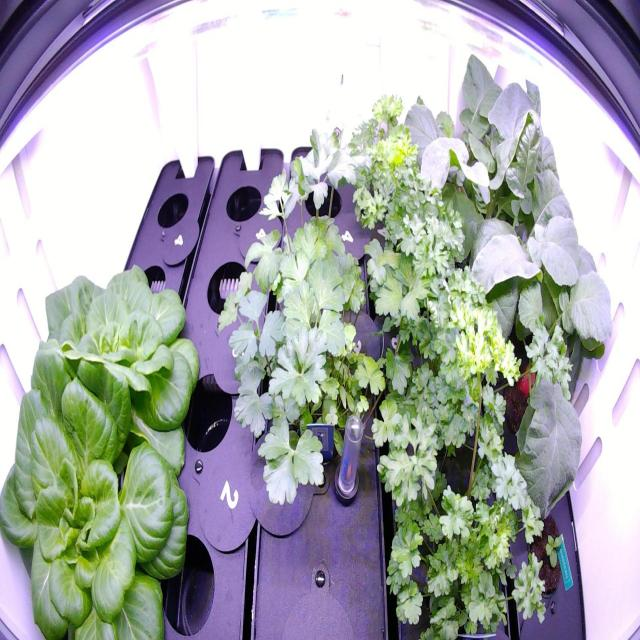empty_pod: (138, 511, 220, 636), (168, 350, 238, 462), (200, 250, 256, 326), (122, 254, 175, 319), (218, 174, 266, 235), (298, 166, 345, 228), (150, 184, 191, 236)
young: (0, 337, 194, 638), (12, 255, 205, 495), (519, 504, 570, 604)
